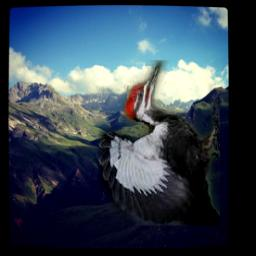Woodpecker: (99, 61, 221, 227)
